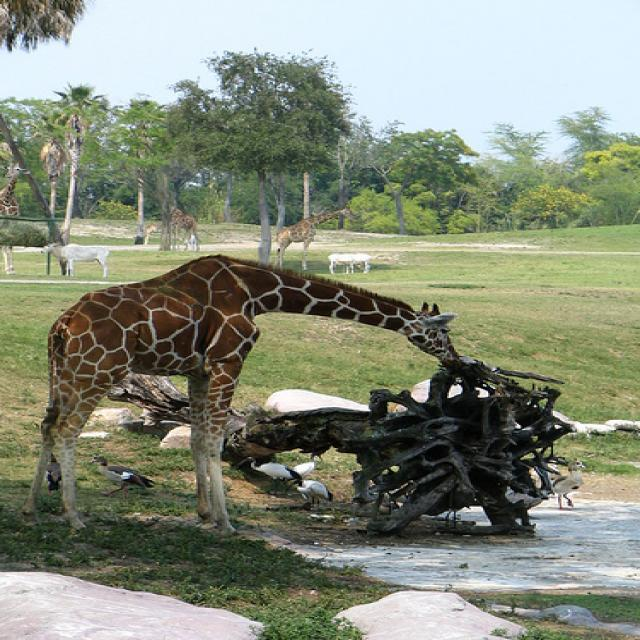cow: (39, 240, 109, 277)
